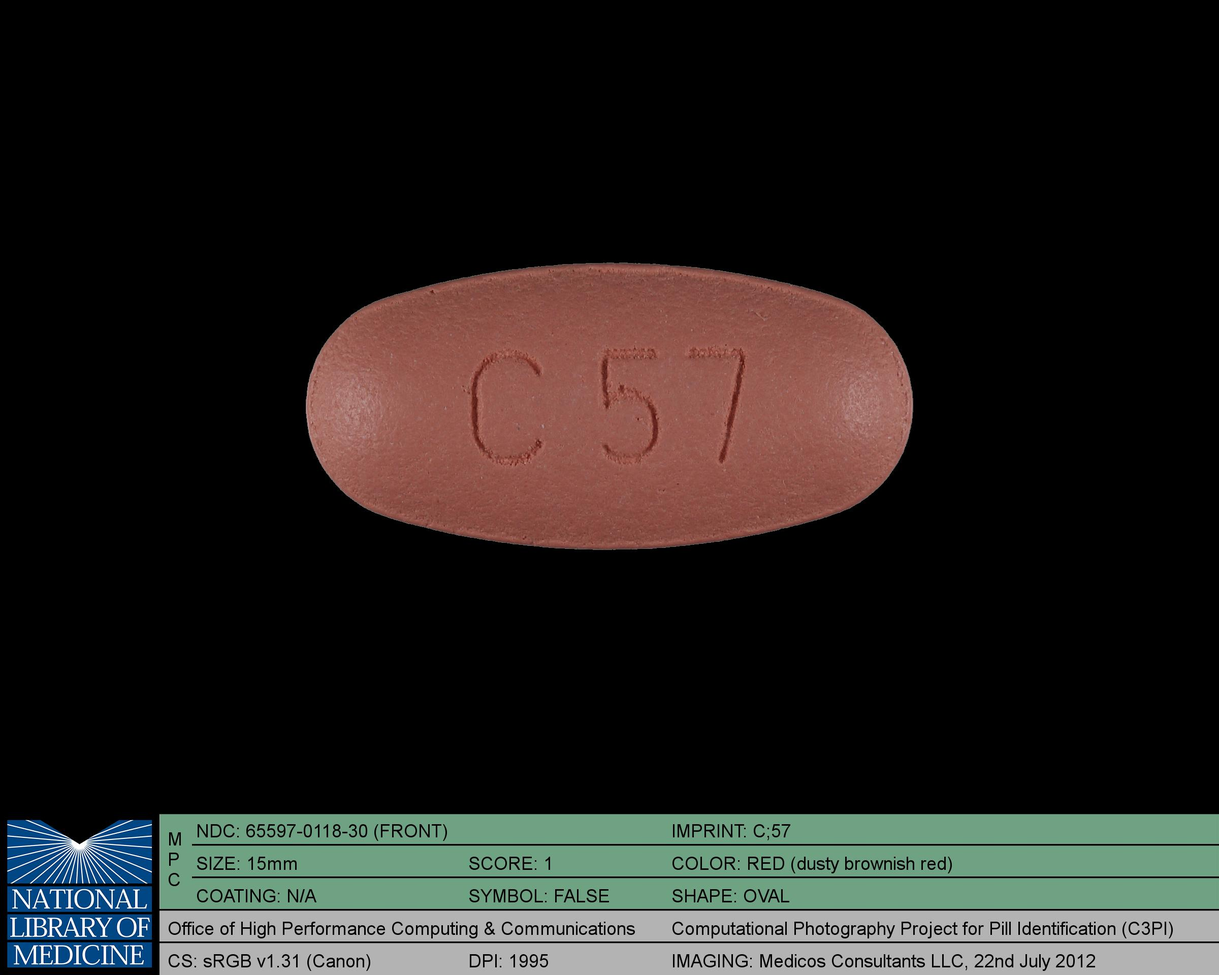Pill: (295, 249, 926, 559)
